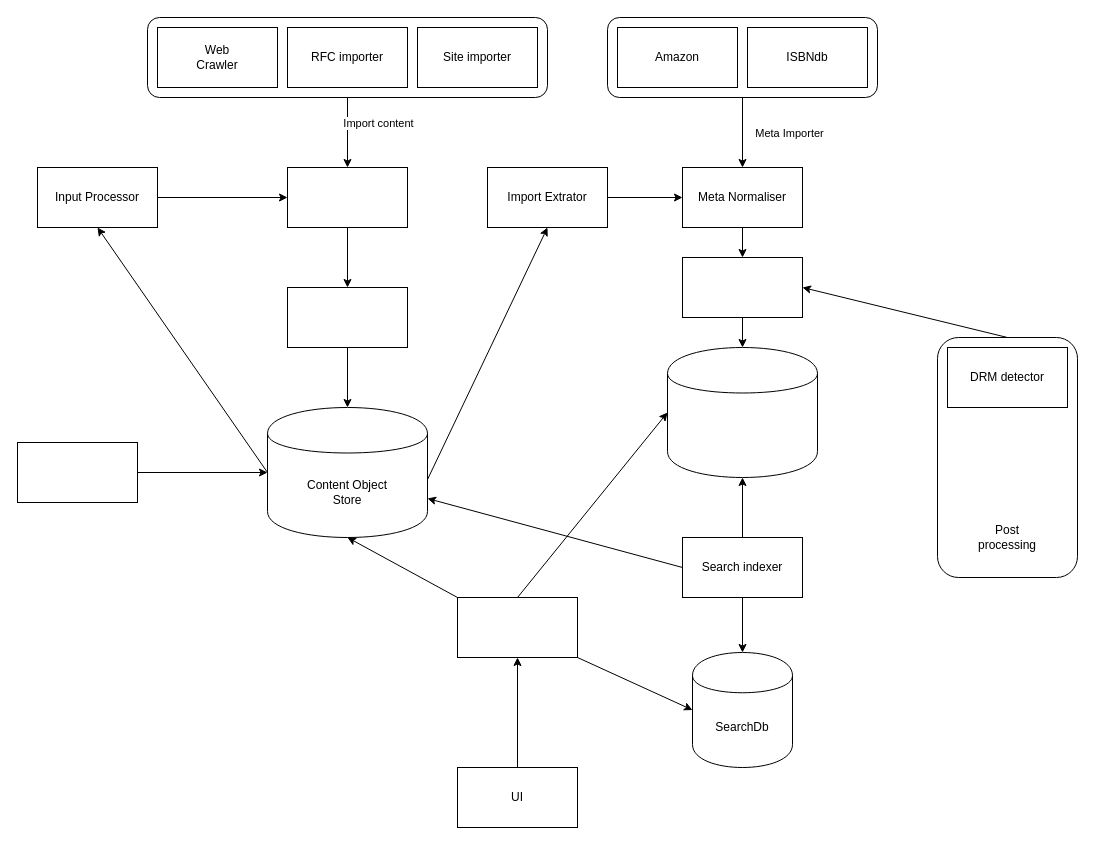
This 1095x845 diagram has some shape labels left out. Each missing label, with the centre of its shape:
"API" belongs at pixel 517 627.
"Input Recorder" belongs at pixel 347 197.
"Manual Import" belongs at pixel 77 472.
"Meta Resolver" belongs at pixel 742 287.
"MetaDb" belongs at pixel 742 412.
"Security scanner" belongs at pixel 347 317.
